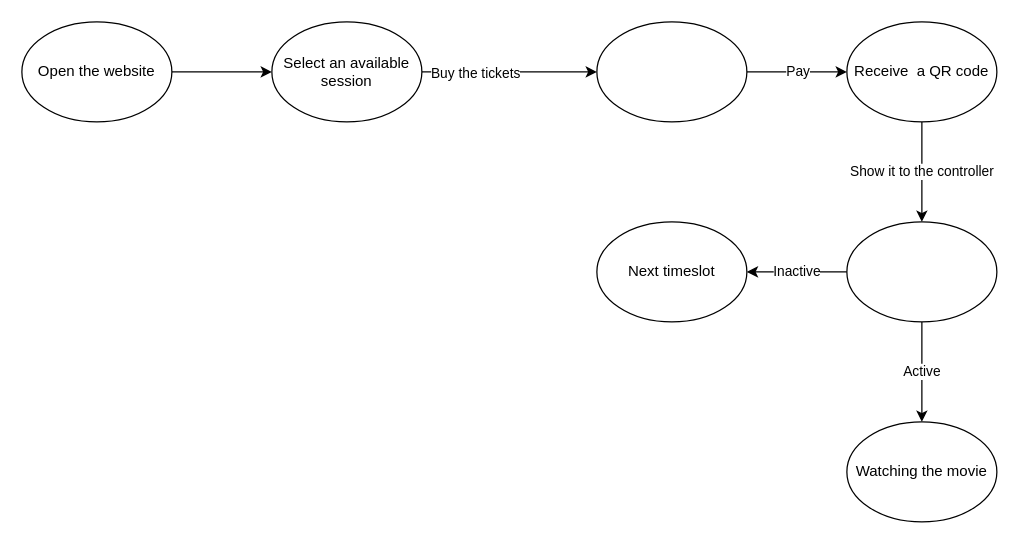
The diagram is 1019 pixels wide and 544 high, and some of its shapes have lost their labels. The centre of each missing label's shape, as x and y in pixels:
"Choose the seats" belongs at point (671, 71).
"QR code validation" belongs at point (921, 271).
